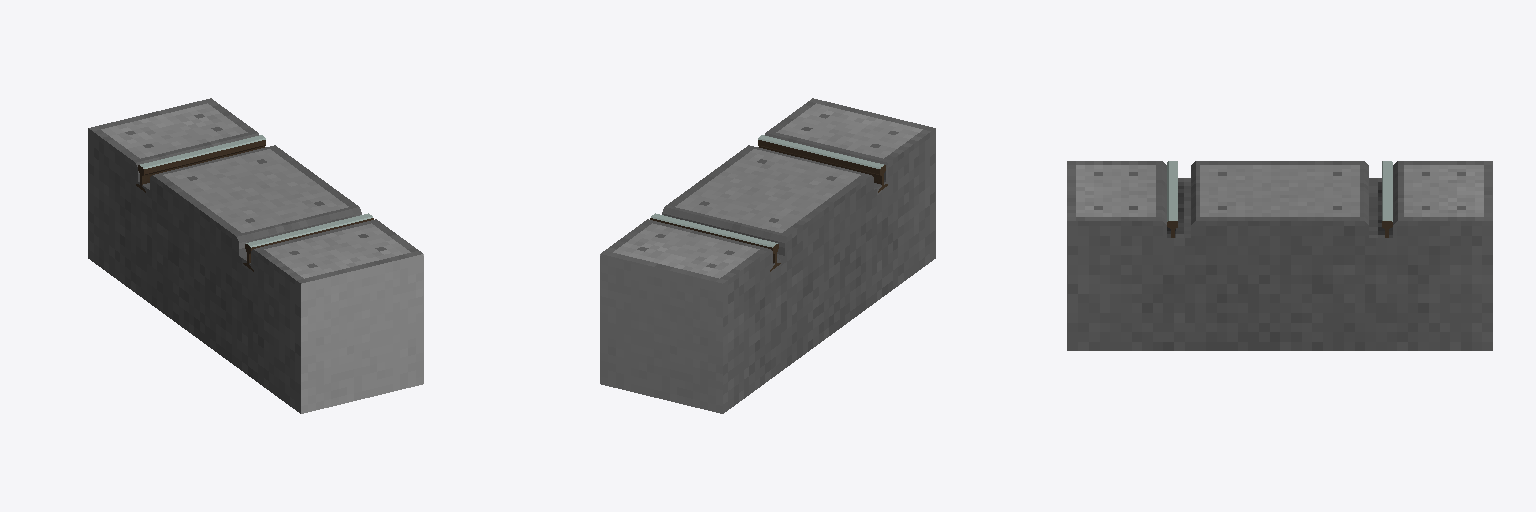
The picture shows the model from 3 angles: view 1: azimuth 30°, elevation 25°; view 2: azimuth 150°, elevation 25°; view 3: azimuth 270°, elevation 25°; orthographic projection.
Visible parts, largest first — view 1: RAIL_BASE.001_Cube.005, RAIL_RIGHT_Cube.003, RAIL_LEFT_Cube.004; view 2: RAIL_BASE.001_Cube.005, RAIL_LEFT_Cube.004, RAIL_RIGHT_Cube.003; view 3: RAIL_BASE.001_Cube.005, RAIL_LEFT_Cube.004, RAIL_RIGHT_Cube.003.
Boxes of the visible parts, x1,y1,x2,y2 form: RAIL_BASE.001_Cube.005: [88, 98, 423, 413]; RAIL_RIGHT_Cube.003: [136, 135, 265, 192]; RAIL_LEFT_Cube.004: [243, 213, 373, 271]; RAIL_BASE.001_Cube.005: [600, 98, 935, 413]; RAIL_LEFT_Cube.004: [758, 135, 887, 192]; RAIL_RIGHT_Cube.003: [650, 213, 780, 271]; RAIL_BASE.001_Cube.005: [1067, 161, 1492, 350]; RAIL_LEFT_Cube.004: [1167, 161, 1177, 237]; RAIL_RIGHT_Cube.003: [1382, 161, 1392, 237].
Size of the model in its own units: 1 by 1.02 by 3.
2 materials, 2 textured.